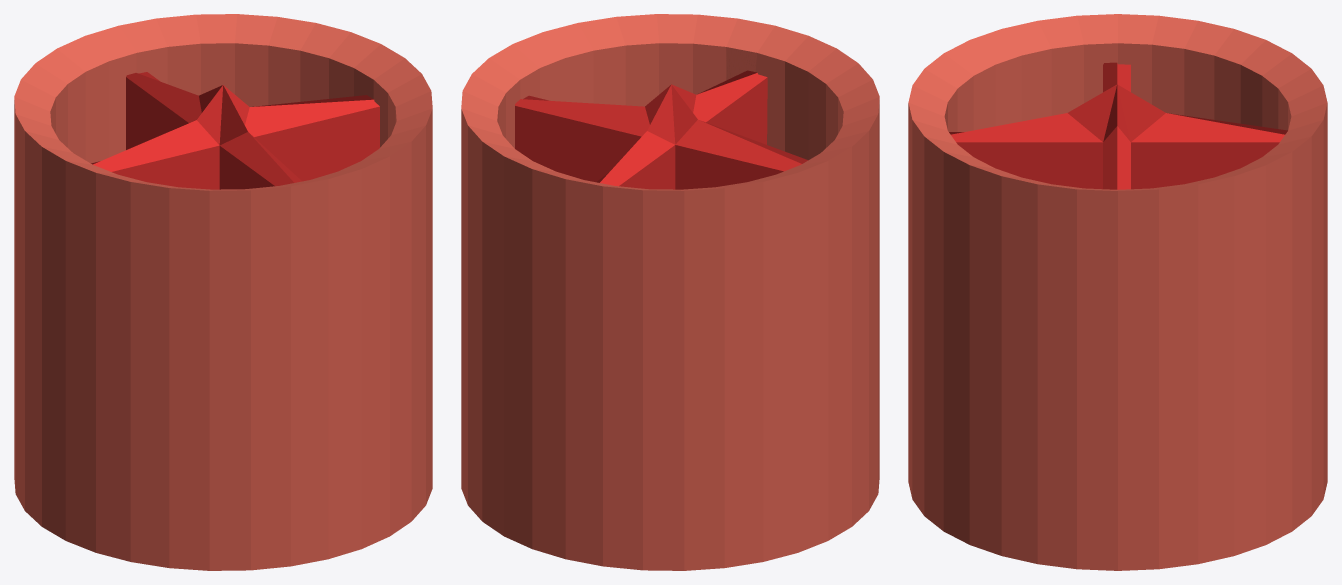
The model's file is Motor.fbx.
3 views of the same model, side by side, from view 1: azimuth 30°, elevation 25°; view 2: azimuth 150°, elevation 25°; view 3: azimuth 270°, elevation 25° (orthographic).
Visible parts, largest first — view 1: Cylinder, Cube; view 2: Cylinder, Cube; view 3: Cylinder, Cube.
Boxes of the visible parts, x1=… form: Cylinder: x1=14, y1=14, x2=432, y2=570; Cube: x1=91, y1=72, x2=379, y2=189; Cylinder: x1=461, y1=14, x2=879, y2=570; Cube: x1=515, y1=70, x2=808, y2=189; Cylinder: x1=908, y1=14, x2=1327, y2=570; Cube: x1=949, y1=62, x2=1287, y2=189.
Size of the model in its own units: 200 by 219 by 200.
